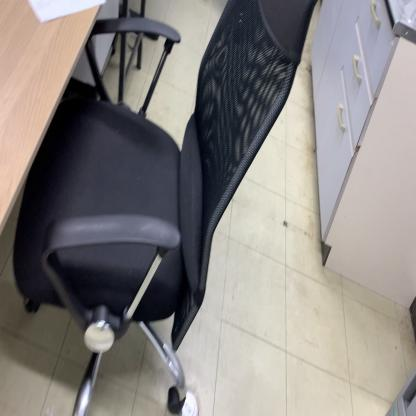chair: (12, 0, 320, 416)
